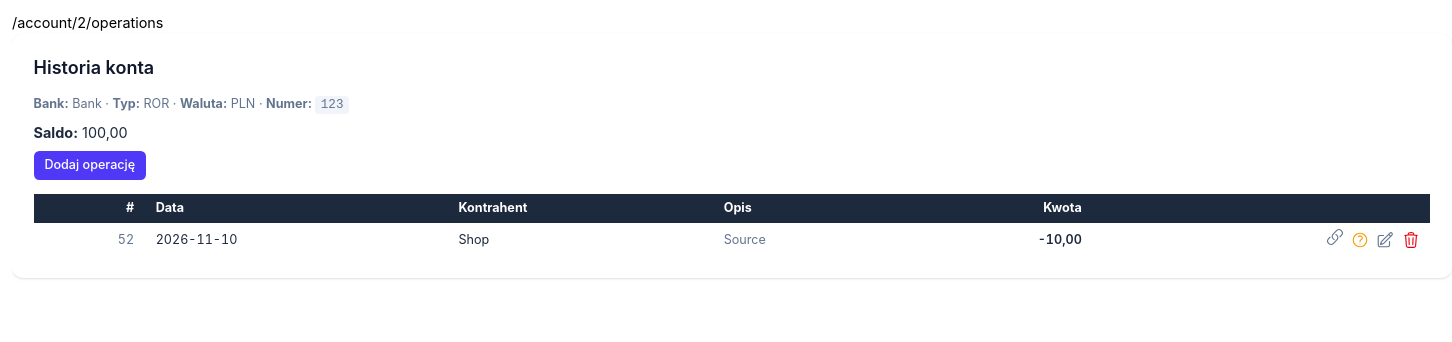
opens the other side on page 1 and highlights it
Click the button named "Pokaż drugą stronę transakcji" at (1335, 237), box [1326,228,1344,246]
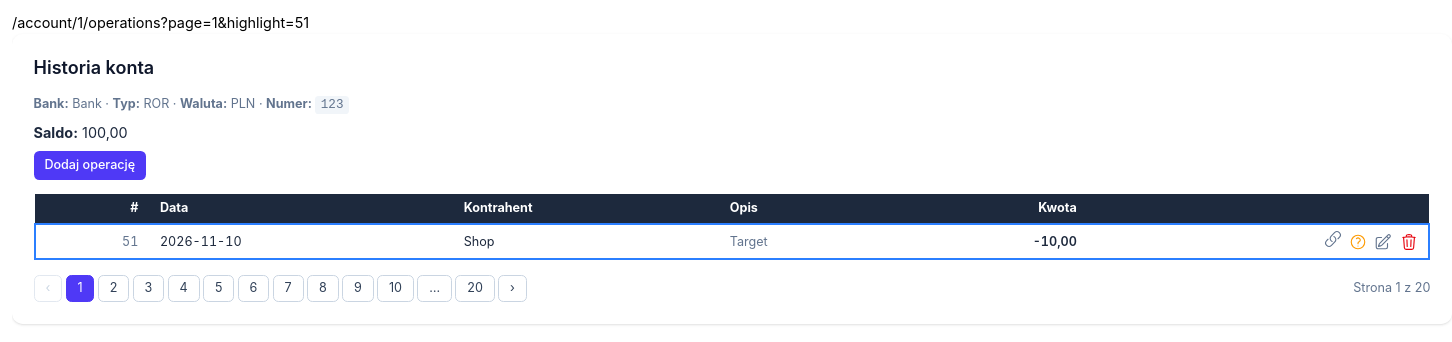
Now the text "Target" is shown, box [719,224,894,260]
Now the text "Source" is gone
